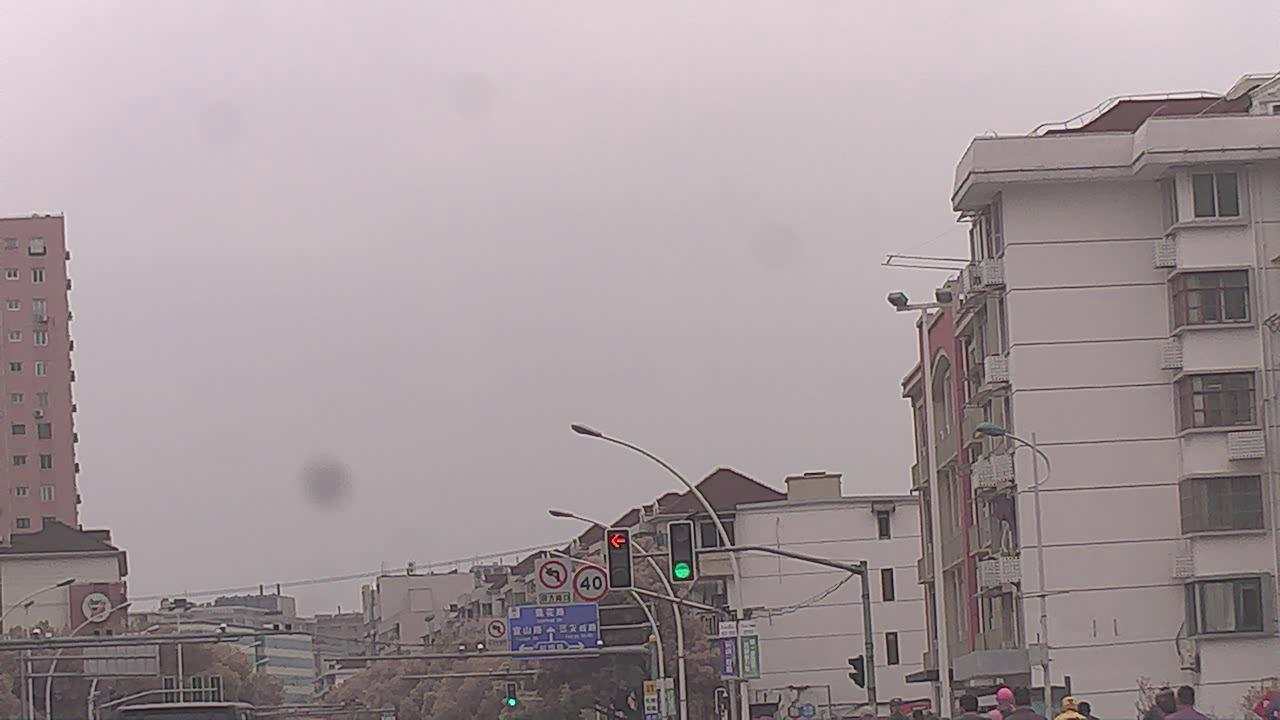traffic_light: (667, 521, 699, 584), (605, 528, 636, 590)
